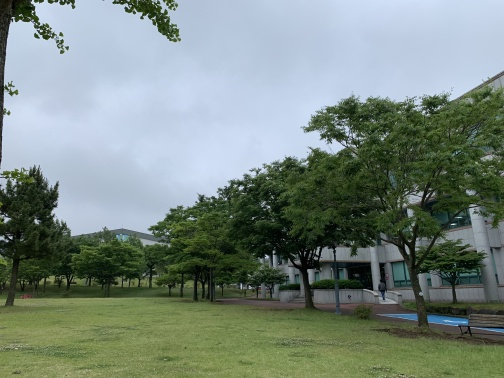Second Library: (293, 43, 503, 319)
